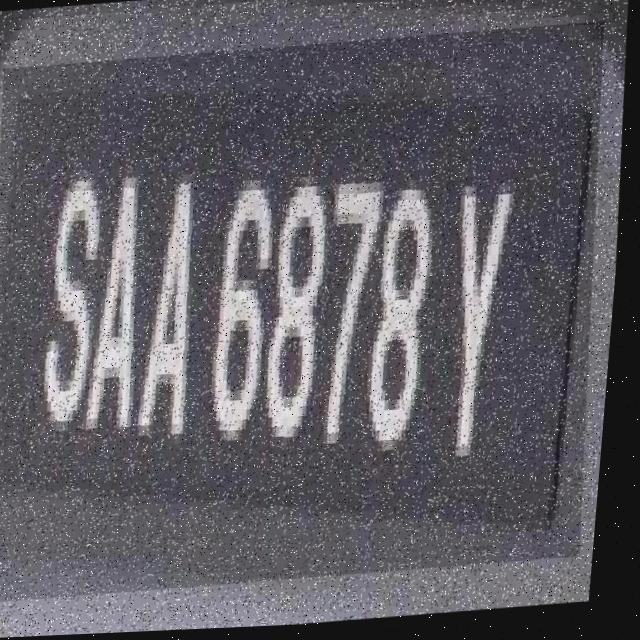LicensePlate: (0, 26, 623, 605)
